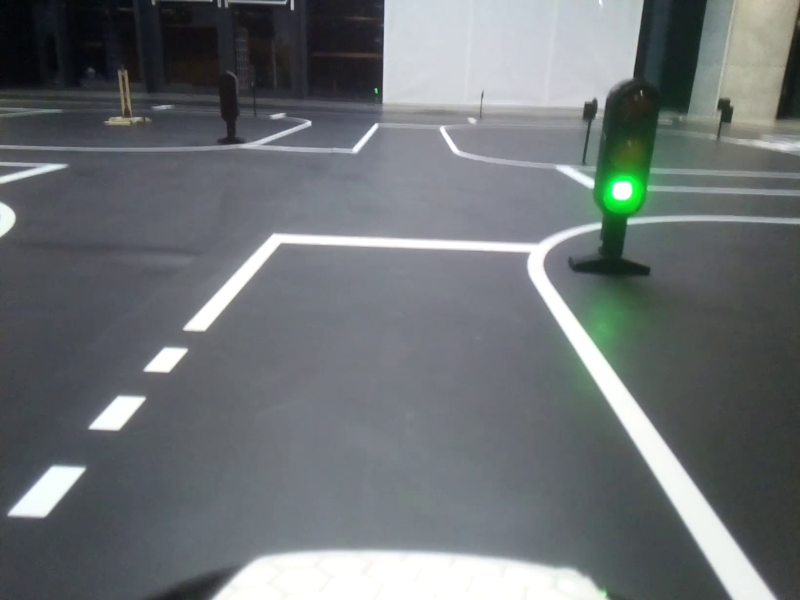traffic_green: (599, 79, 651, 223)
